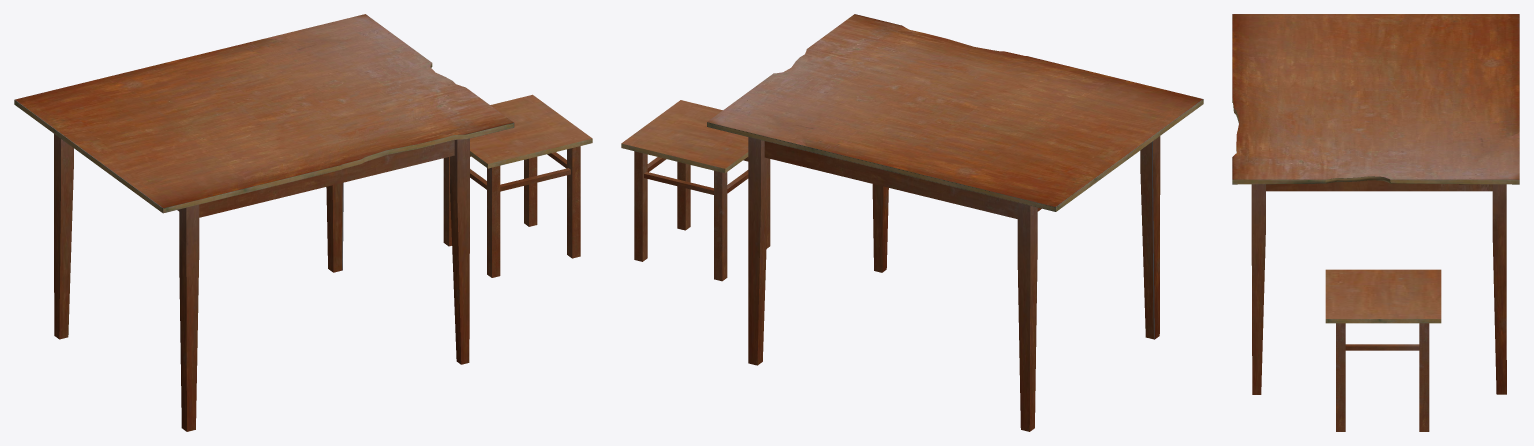
The model's file is table_kuche_2.FBX.
3 views of the same model, side by side, from view 1: azimuth 30°, elevation 25°; view 2: azimuth 150°, elevation 25°; view 3: azimuth 270°, elevation 25° (orthographic). The views are drawn at different scales.
Parts seen in each view (by area): view 1: table_kuche_2ь, chair_kuche_2; view 2: table_kuche_2ь, chair_kuche_2; view 3: table_kuche_2ь, chair_kuche_2.
Boxes of the visible parts, x1=… form: table_kuche_2ь: x1=14, y1=14, x2=514, y2=431; chair_kuche_2: x1=443, y1=94, x2=592, y2=277; table_kuche_2ь: x1=707, y1=14, x2=1203, y2=431; chair_kuche_2: x1=621, y1=100, x2=770, y2=281; table_kuche_2ь: x1=1232, y1=14, x2=1519, y2=394; chair_kuche_2: x1=1325, y1=269, x2=1441, y2=431.
Size of the model in its own units: 151 by 72.27 by 81.4.
